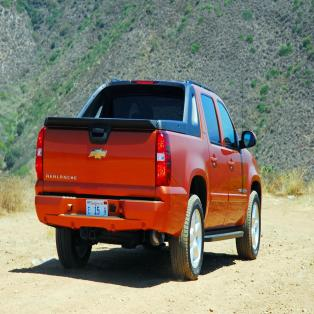Auto: (35, 79, 262, 282)
